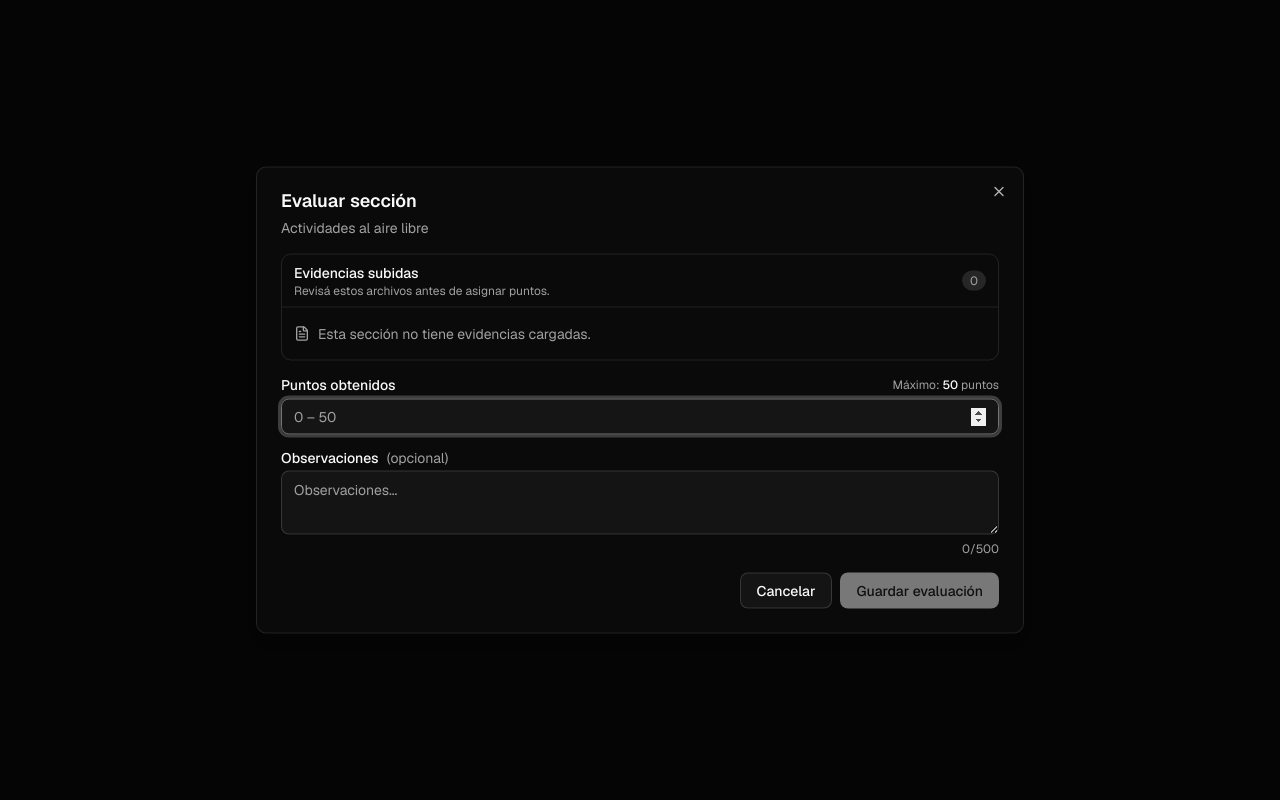
Test: EvaluateSectionDialog › shows error message for non-integer points value
The image size is (1280, 800).
In the number field with id "earned-points": (640, 416) [281, 398, 999, 434], type "10.5"
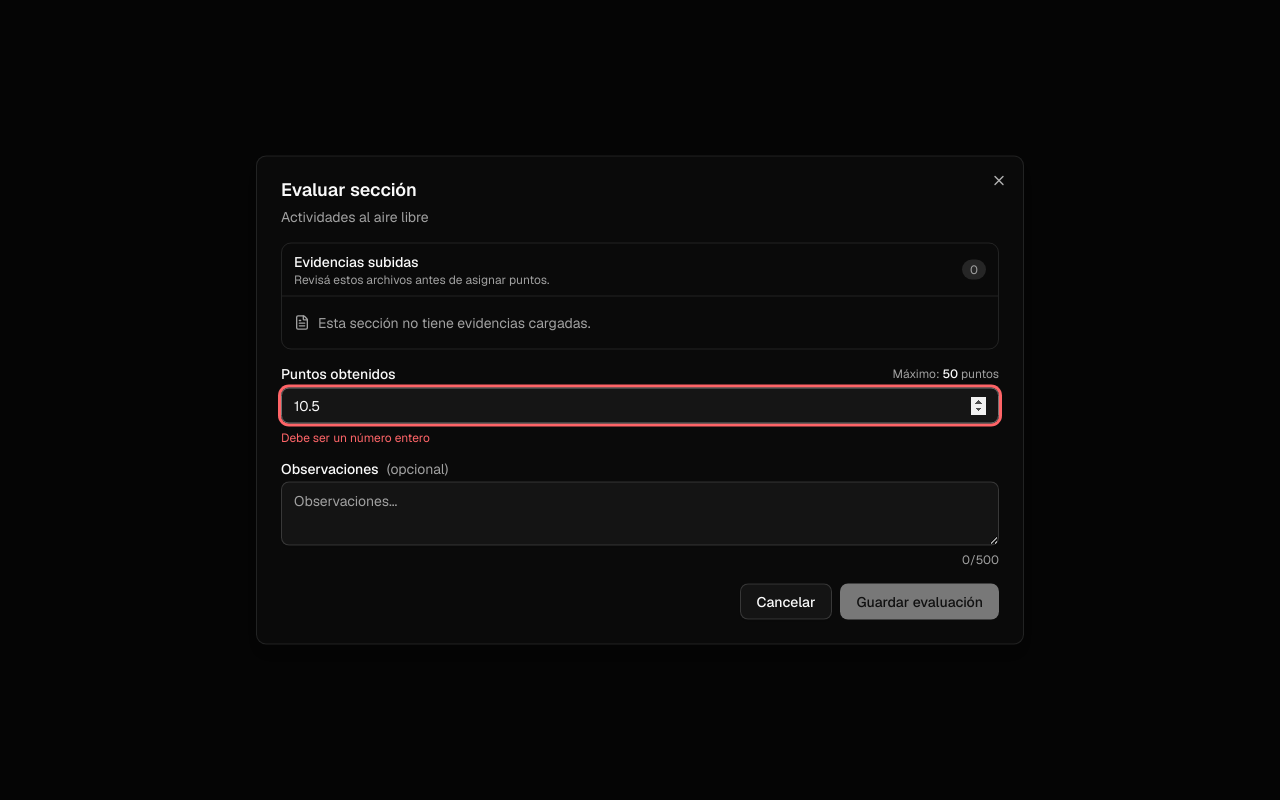
Expected: the button "Guardar evaluación" is disabled, [840, 584, 999, 620]
Expected: the text "Debe ser un número entero" is shown, [281, 430, 430, 446]
